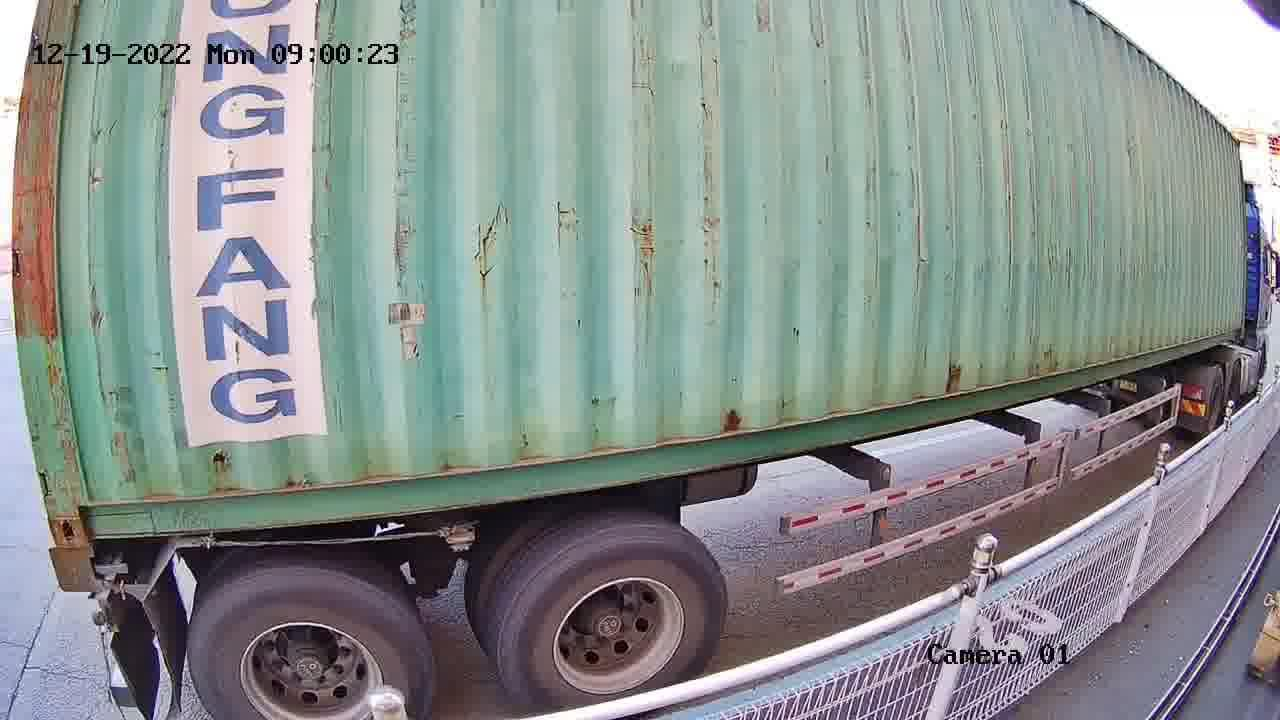Cone: (59, 545, 109, 593)
Hole_L: (42, 486, 128, 549)
Tire: (505, 533, 722, 714), (189, 569, 428, 716)
